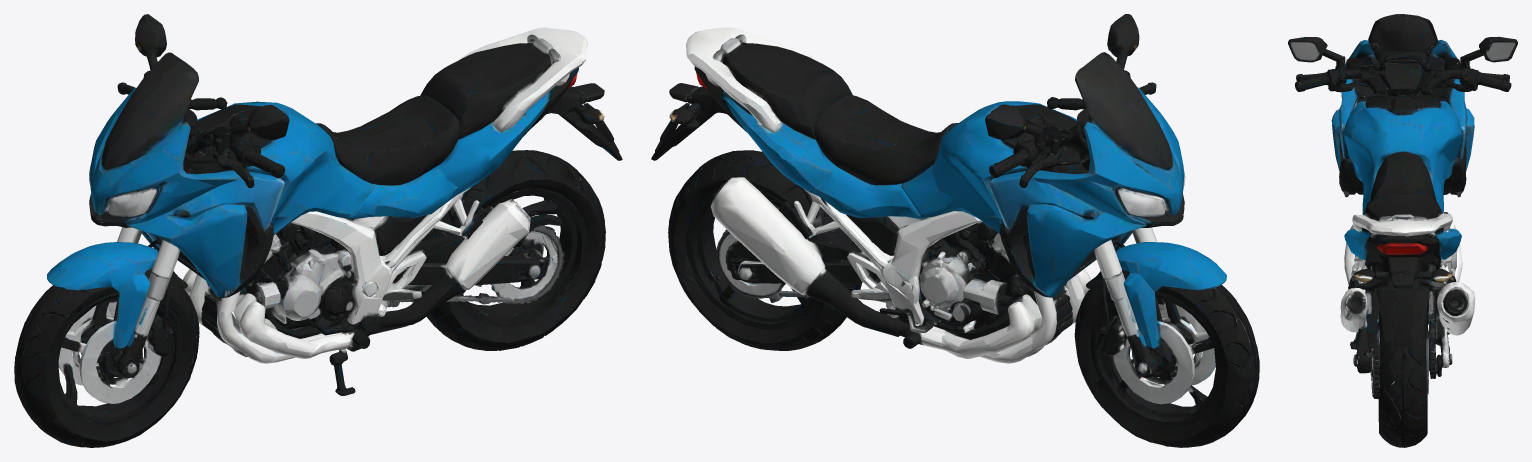
The model's file is upm_mu5vzmv174q.glb.
3 views of the same model, side by side, from view 1: azimuth 30°, elevation 25°; view 2: azimuth 150°, elevation 25°; view 3: azimuth 270°, elevation 25° (orthographic). The views are drawn at different scales.
Size of the model in its own units: 1.9 by 1.11 by 0.7841.
1 material, 1 textured.
